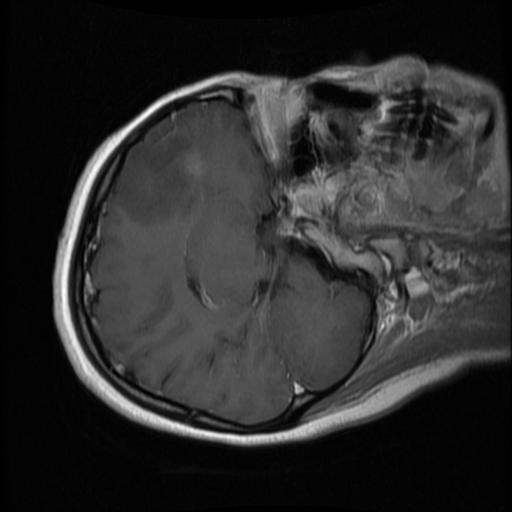glioma: (113, 117, 185, 225)
